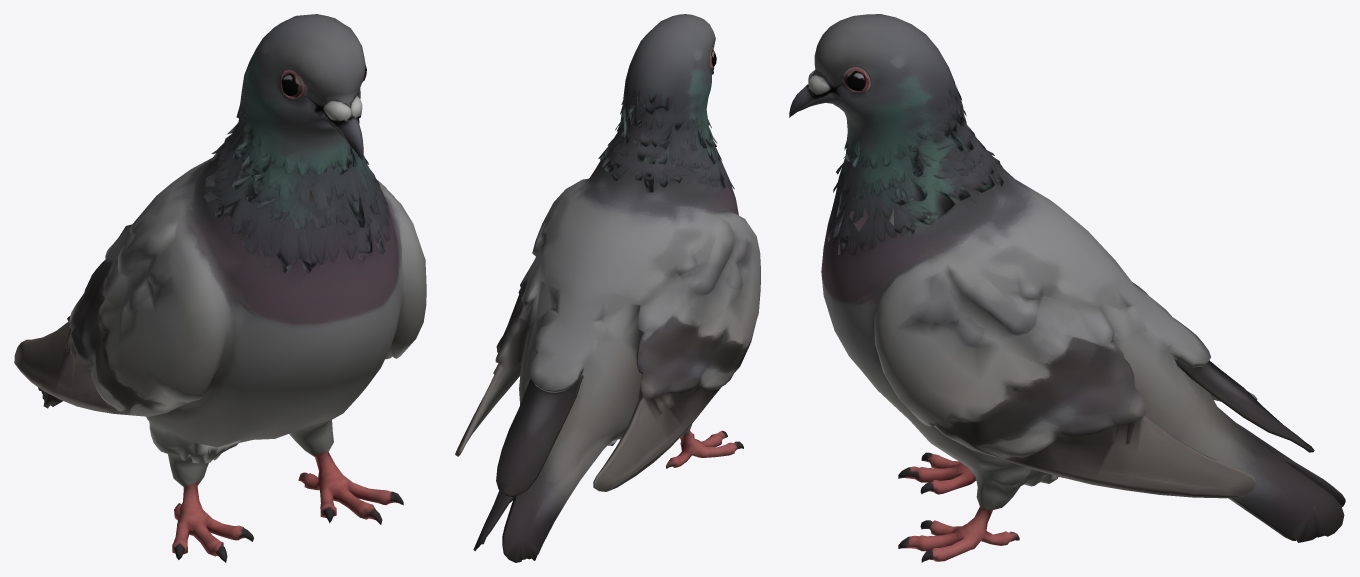
Rendered from pigeon-gray-v2.glb.
3 renders of one model, left to right at view 1: azimuth 30°, elevation 25°; view 2: azimuth 150°, elevation 25°; view 3: azimuth 270°, elevation 25°, orthographic. The views are drawn at different scales.
Visible parts, largest first — view 1: tripo_node_cd4561b4-ff6c-4ebe-a1f7-85732a18a7f2; view 2: tripo_node_cd4561b4-ff6c-4ebe-a1f7-85732a18a7f2; view 3: tripo_node_cd4561b4-ff6c-4ebe-a1f7-85732a18a7f2.
Boxes of the visible parts, x1,y1,x2,y2 form: tripo_node_cd4561b4-ff6c-4ebe-a1f7-85732a18a7f2: (14, 14, 426, 562); tripo_node_cd4561b4-ff6c-4ebe-a1f7-85732a18a7f2: (455, 14, 760, 562); tripo_node_cd4561b4-ff6c-4ebe-a1f7-85732a18a7f2: (789, 14, 1345, 562).
Size of the model in its own units: 0.1661 by 0.3 by 0.2965.
1 material, 1 textured.
